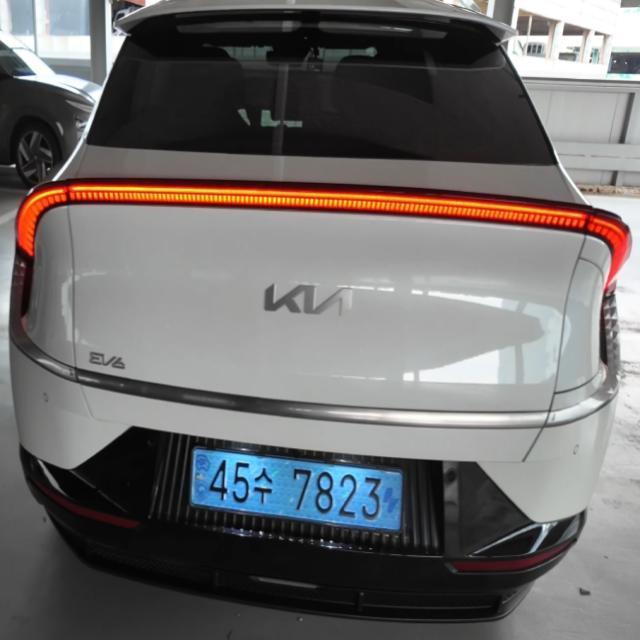car: (169, 418, 435, 543)
carev: (380, 465, 413, 533), (186, 440, 211, 508)
